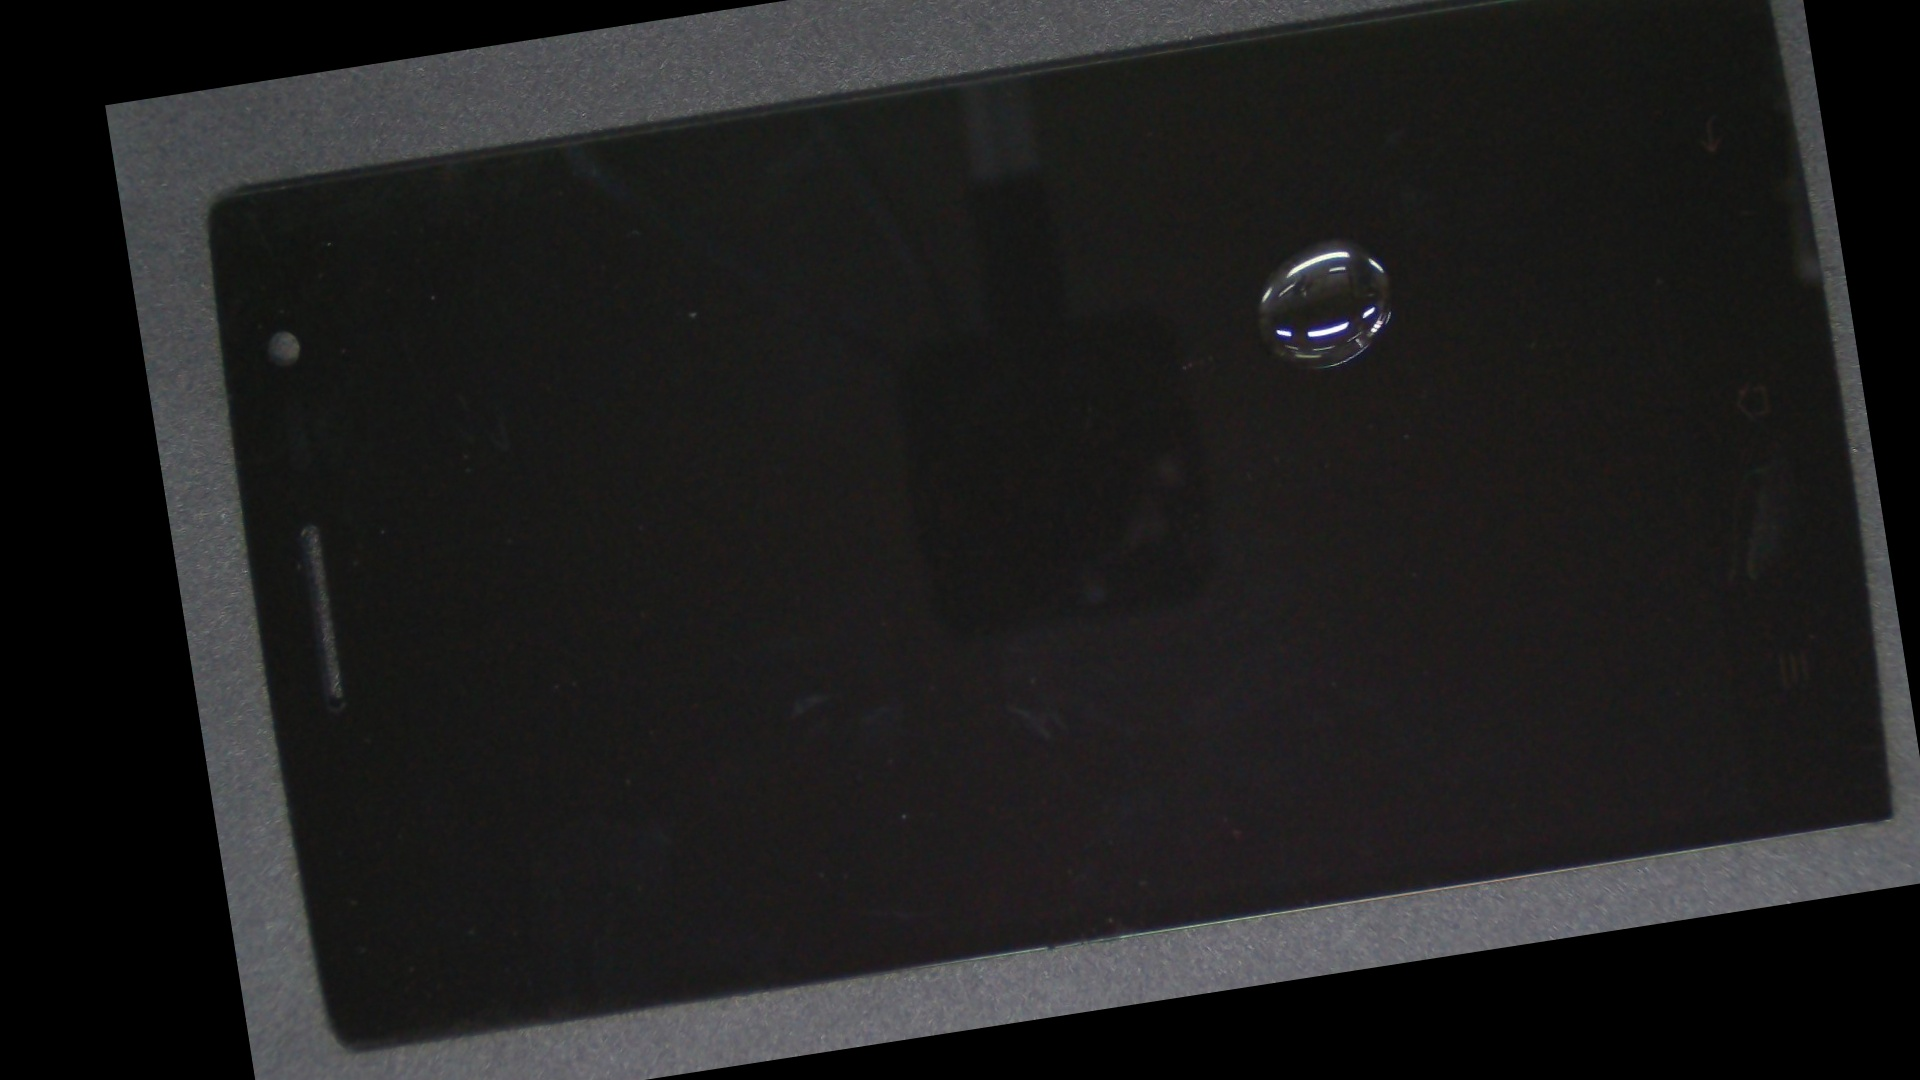oil: (713, 5, 1853, 489)
